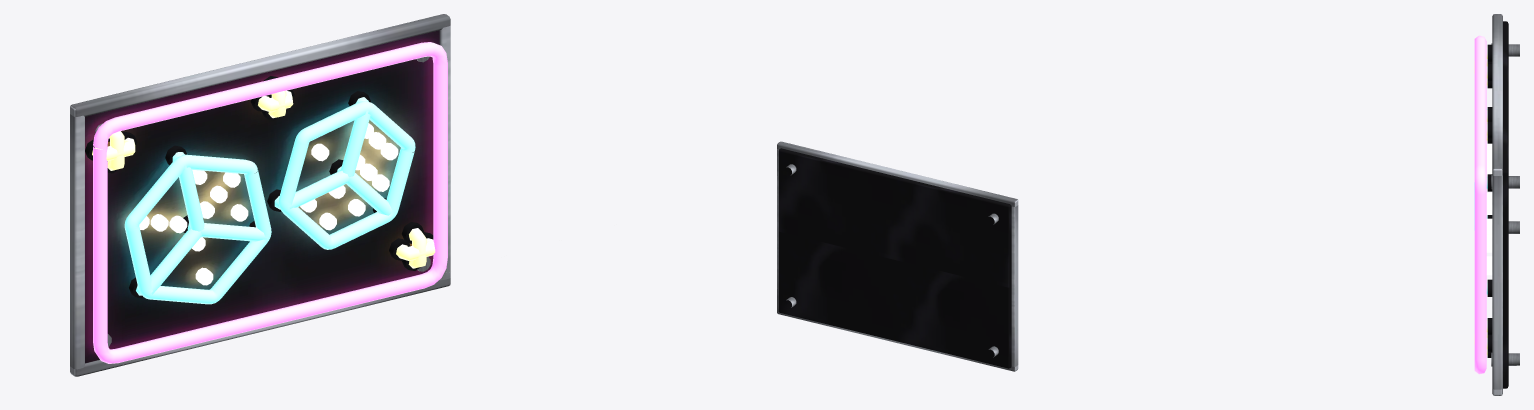
File: prop_neonDice.glb
The picture shows the model from 3 angles, left to right: view 1: azimuth 30°, elevation 25°; view 2: azimuth 150°, elevation 25°; view 3: azimuth 270°, elevation 25°; orthographic projection. The views are drawn at different scales.
Visible parts, largest first — view 1: prop; view 2: prop; view 3: prop.
Part boxes in pixels (<box>): prop: <box>70,14,450,376</box>; prop: <box>777,141,1018,371</box>; prop: <box>1474,14,1519,395</box>.
Size of the model in its own units: 1 by 0.6 by 1.
10 materials, 4 textured.
